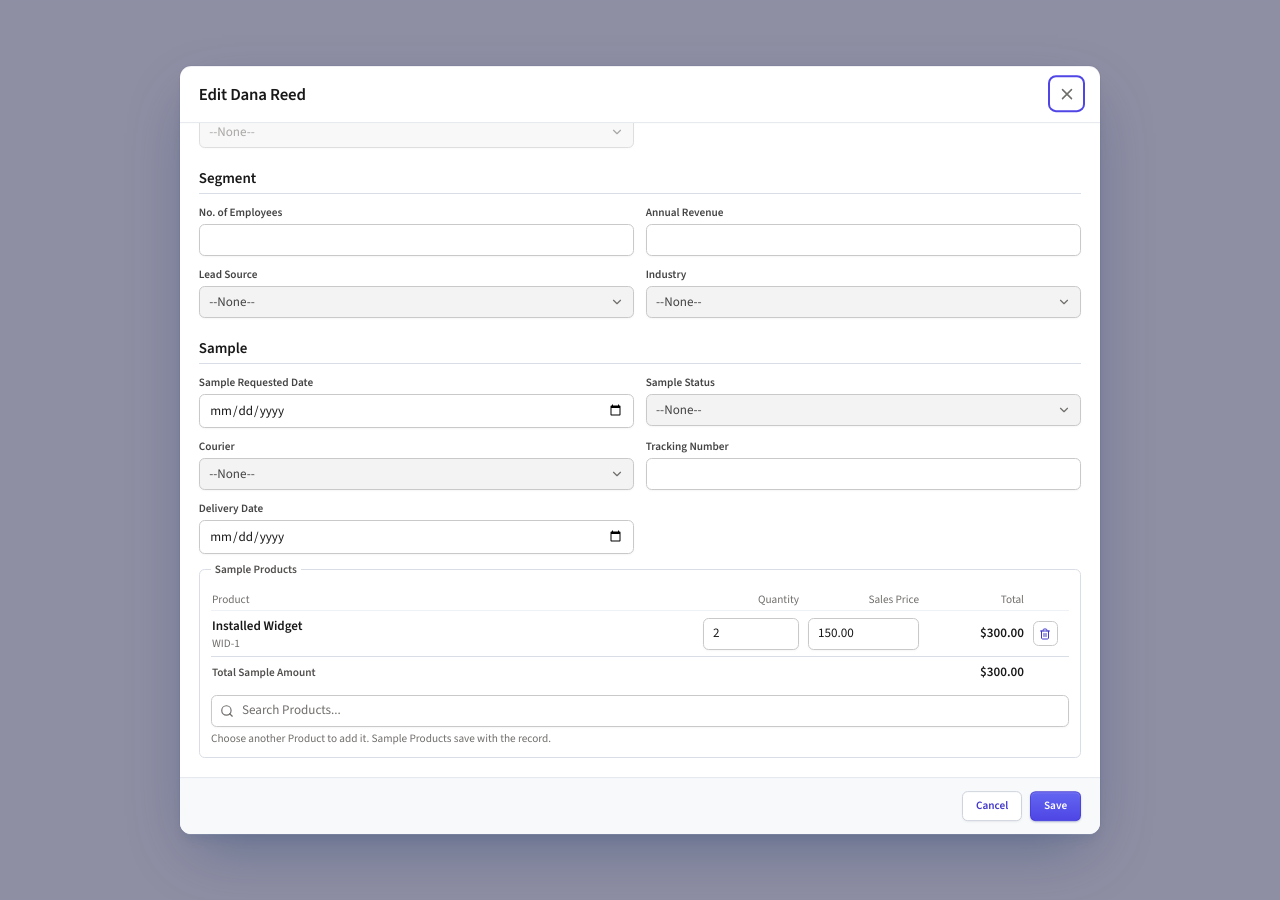
it: Product lines inside the record modal › hides products that are already staged from the picker
(page scrolled)
Click the dropdown labelled "Search Products..." at [640, 711], box [211,695,1069,727]
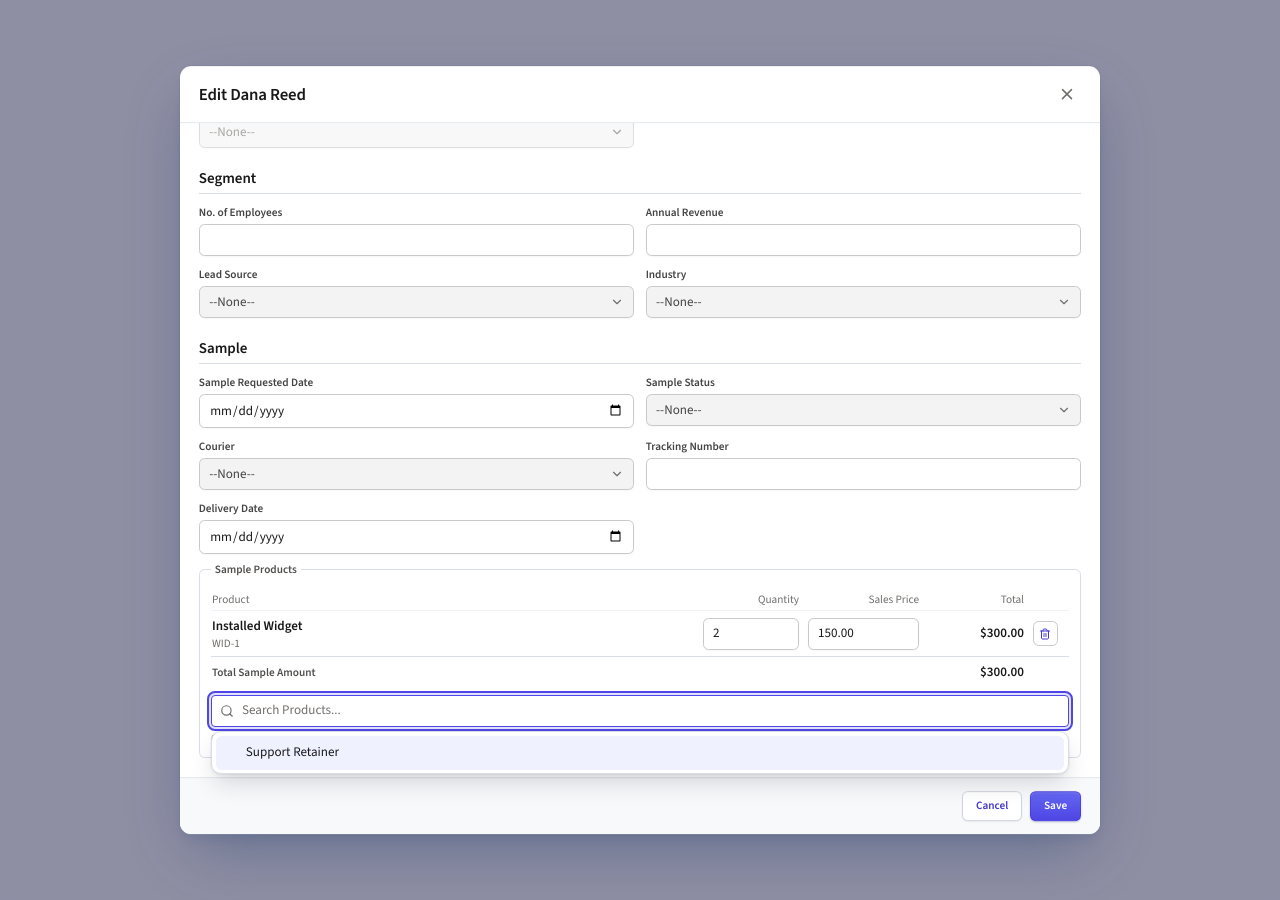
Expected: the option "Support Retainer" is shown, [216,736,1064,770]
